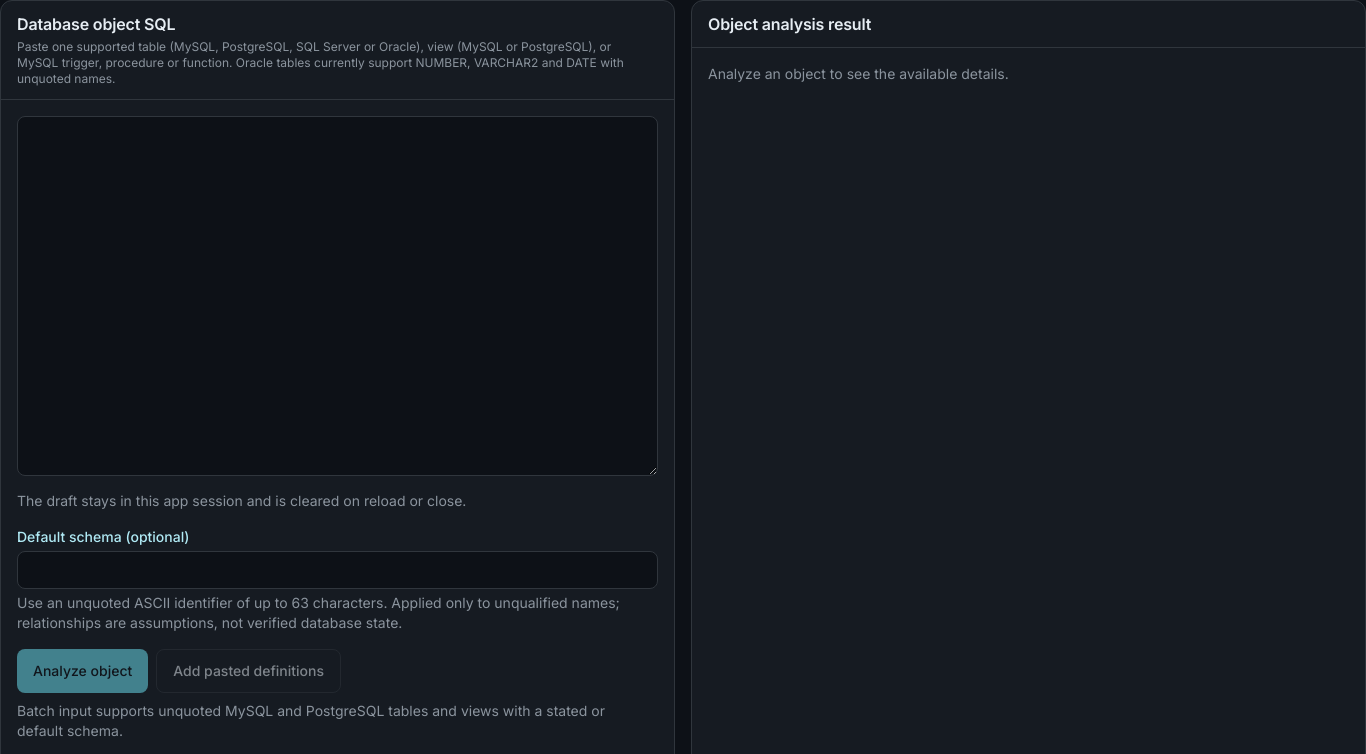
Test case: does not replace a newer result when an older analysis finishes late
Type "CREATE VIEW old_view AS SELECT 1" into the text box named "Database object SQL" at (338, 296), box [17, 116, 658, 476]
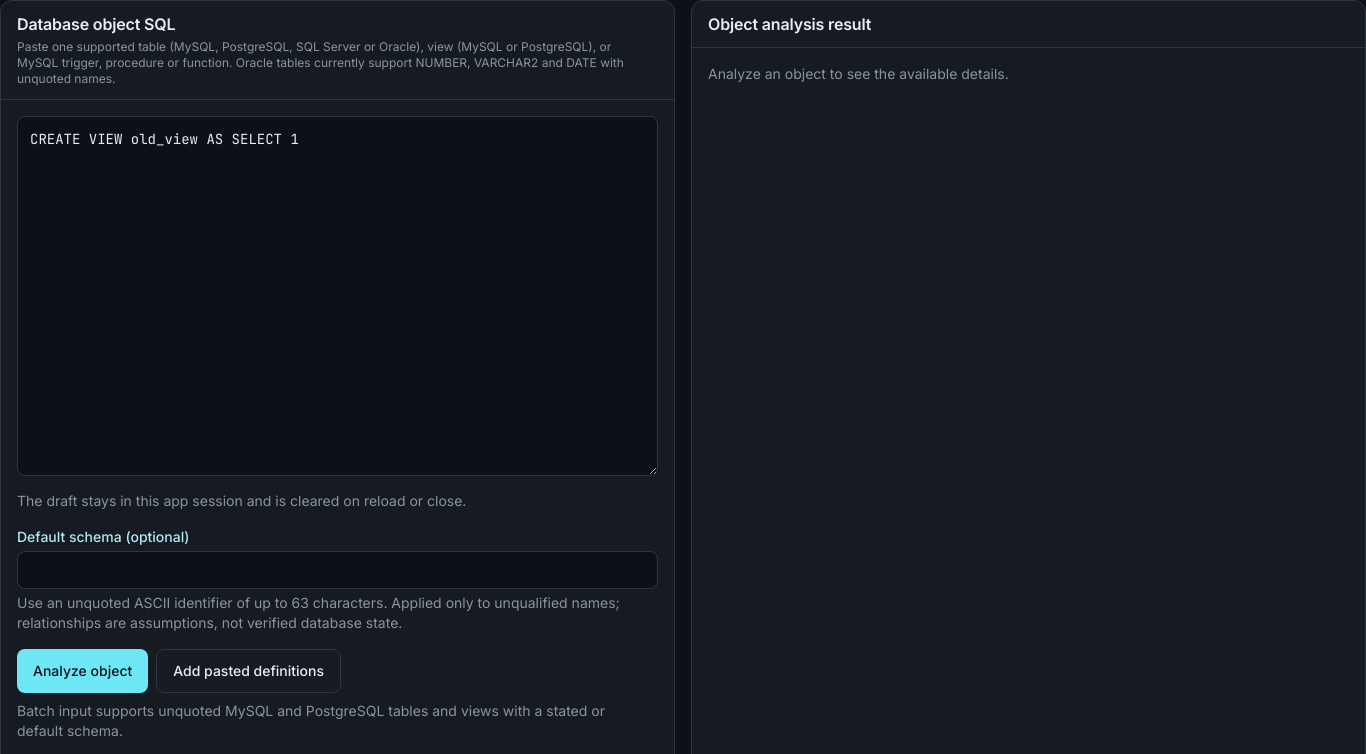
Click the button "Analyze object" at (83, 671), box [17, 649, 148, 693]
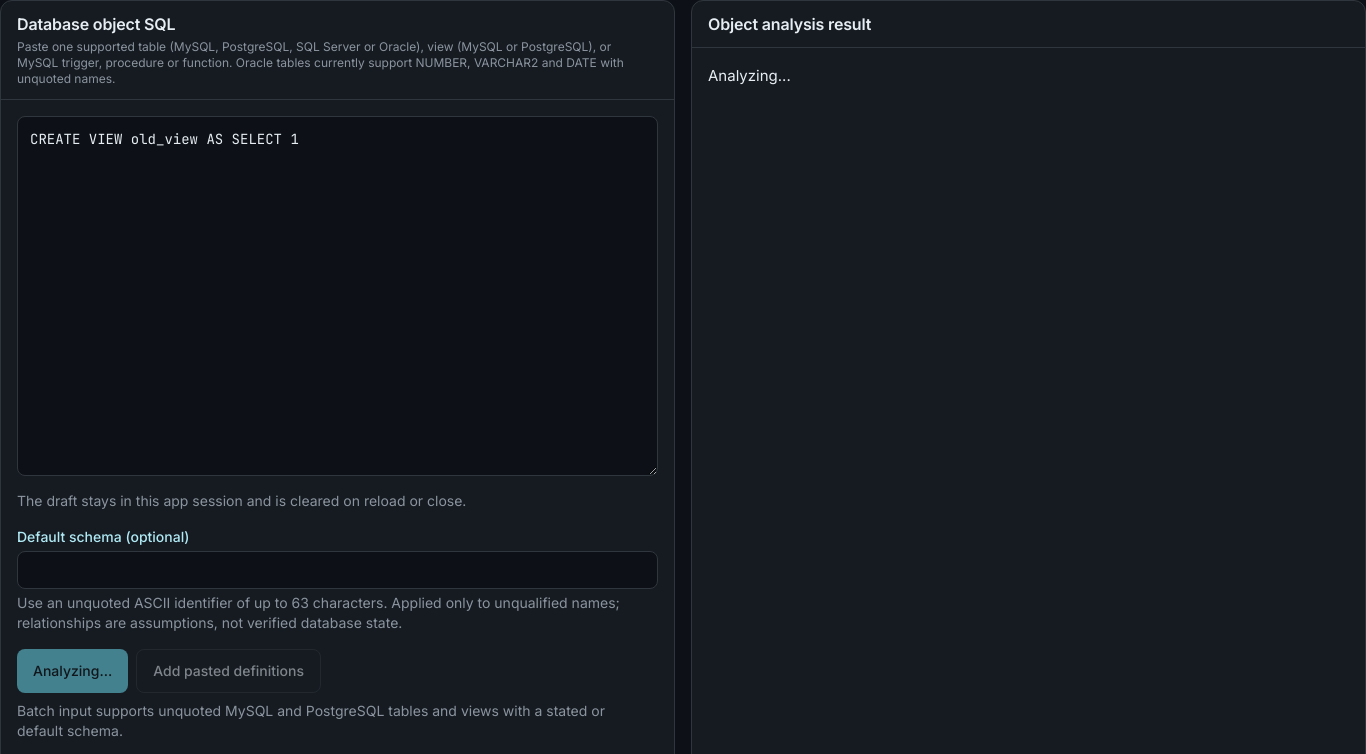
Replace the text in the text box named "Database object SQL" with "CREATE VIEW new_view AS SELECT 1" at (338, 296), box [17, 116, 658, 476]
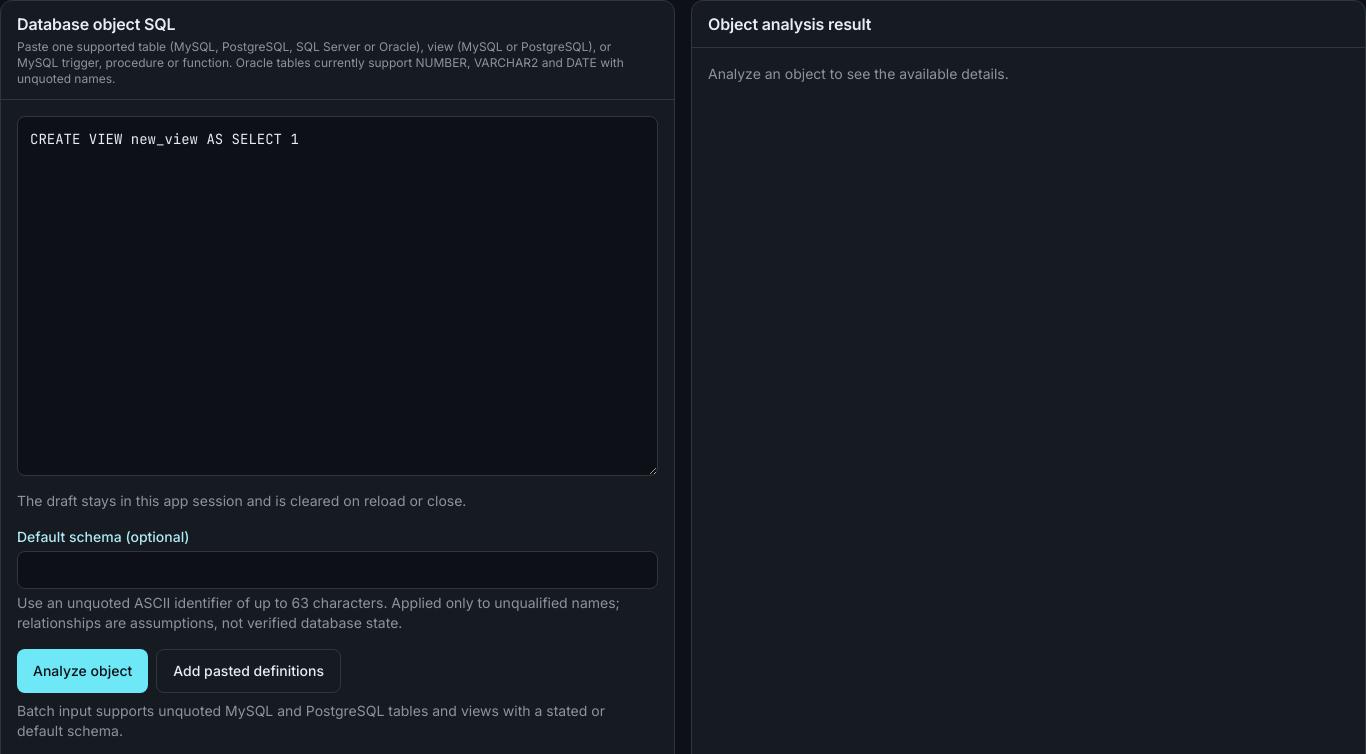
Click the button "Analyze object" at (83, 671), box [17, 649, 148, 693]
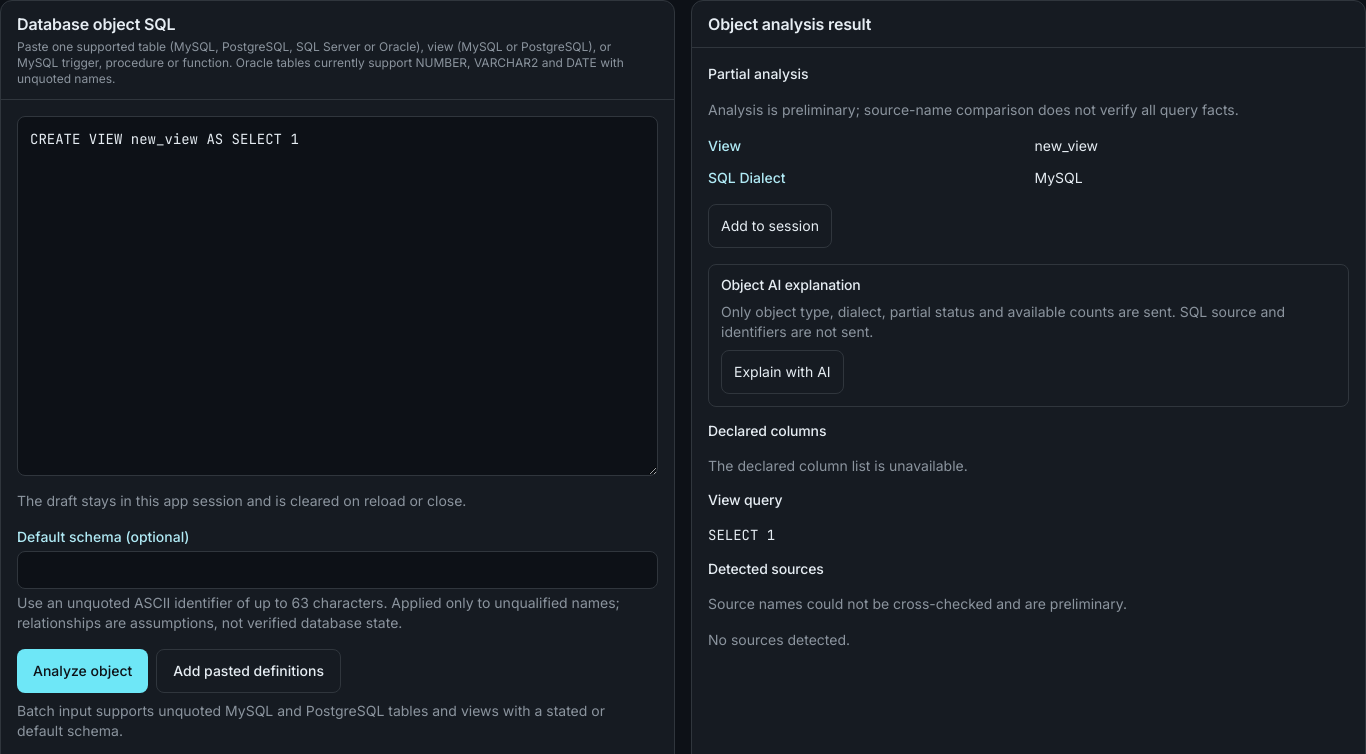
expect the text "old_view" is not shown: met
expect the text "new_view" is shown: met, box [1034, 137, 1098, 154]
